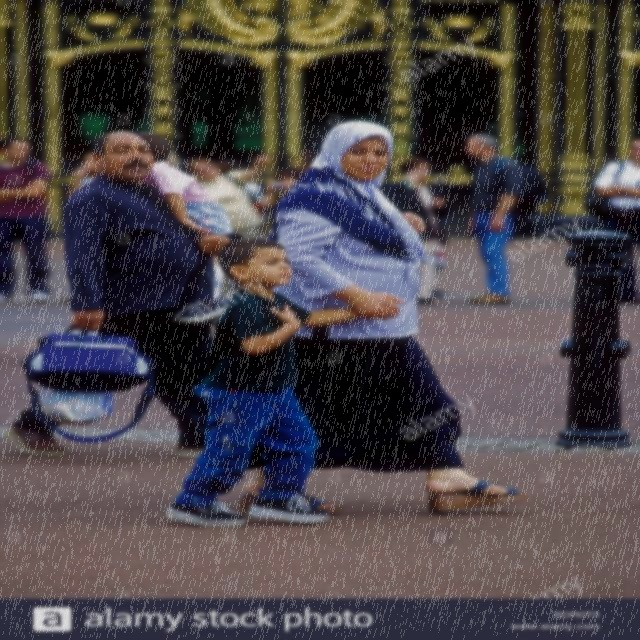pessoa: (227, 114, 536, 524), (2, 129, 247, 459), (156, 232, 412, 538), (133, 130, 235, 324), (452, 128, 553, 308), (376, 155, 453, 305), (578, 136, 640, 308), (179, 155, 276, 241), (66, 150, 100, 202)
